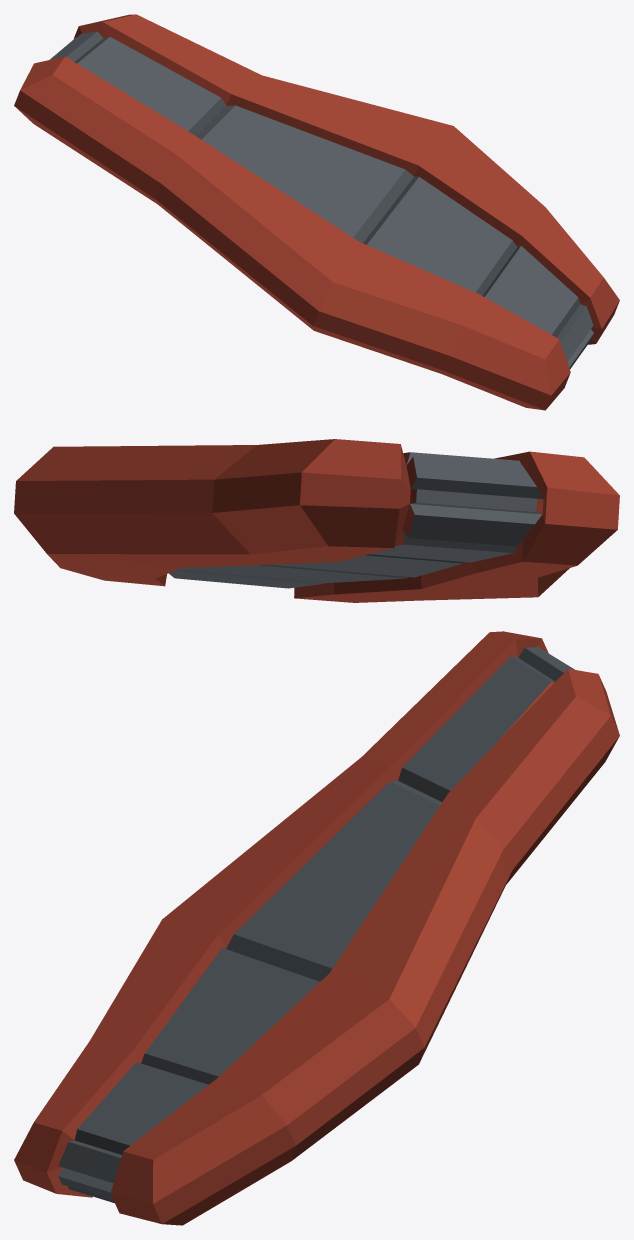
Rendered from Fighter_03_Right_Fin_Red.fbx.
The picture shows the model from 3 angles, top to bottom: view 1: azimuth 30°, elevation 25°; view 2: azimuth 150°, elevation 25°; view 3: azimuth 270°, elevation 25°; orthographic projection. The views are drawn at different scales.
Parts seen in each view (by area): view 1: Fighter_03_Right_Fin_Red; view 2: Fighter_03_Right_Fin_Red; view 3: Fighter_03_Right_Fin_Red.
Part boxes in pixels (bbox=[...]): Fighter_03_Right_Fin_Red: bbox=[14, 14, 619, 410]; Fighter_03_Right_Fin_Red: bbox=[14, 439, 619, 602]; Fighter_03_Right_Fin_Red: bbox=[14, 631, 619, 1225].
Size of the model in its own units: 393 by 239 by 347.
Materials: 1 (1 with a texture image).
